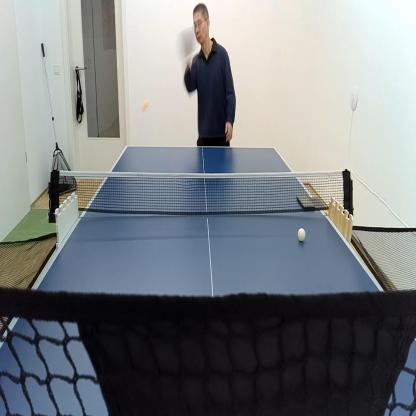Ball: (298, 228, 306, 242), (142, 100, 147, 111)
